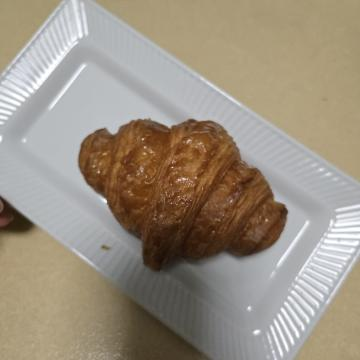croissant: (106, 65, 285, 290)
